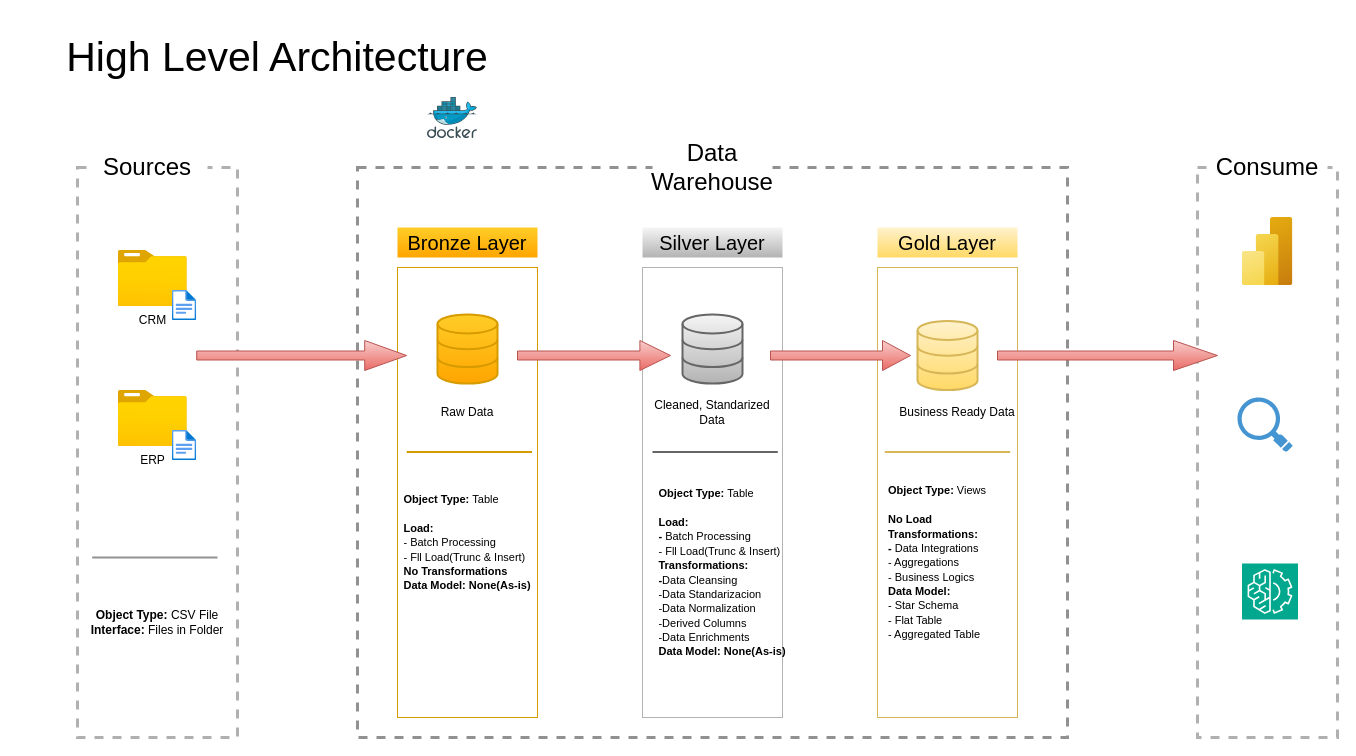
Image size: 1356x756. Some labels were removed from this diagram. Each missing label, with the centre of its shape:
"Ad-Hoc SQL Queries" belongs at (x=1264, y=424).
"Bi & Reporting" belongs at (x=1267, y=251).
"Machine Learning" belongs at (x=1269, y=591).
"PostgreSQL 17 - Local Environment" belongs at (x=452, y=117).
